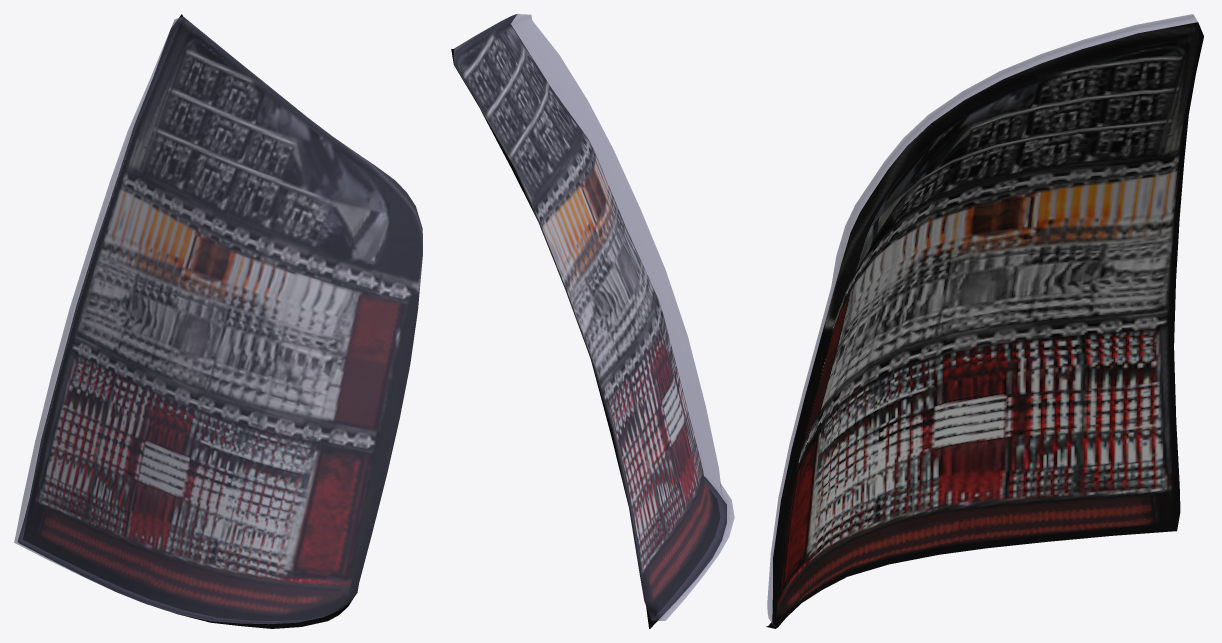
3 views of the same model, side by side, from view 1: azimuth 30°, elevation 25°; view 2: azimuth 150°, elevation 25°; view 3: azimuth 270°, elevation 25° (orthographic). The views are drawn at different scales.
Parts seen in each view (by area): view 1: Y191_13_541C_R_1_DTaSI_Y191_13_541C_R, Y191_13_541C_R_Y191_13_541C_R_4_N, Y191_13_541C_R_Y191_13_541C_R_3_D; view 2: Y191_13_541C_R_1_DTaSI_Y191_13_541C_R, Y191_13_541C_R_Y191_13_541C_R_4_N, Y191_13_541C_R_Y191_13_541C_R_3_D; view 3: Y191_13_541C_R_Y191_13_541C_R_4_N, Y191_13_541C_R_1_DTaSI_Y191_13_541C_R.
Boxes of the visible parts, <box> form: Y191_13_541C_R_1_DTaSI_Y191_13_541C_R: <box>14,17,422,624</box>; Y191_13_541C_R_Y191_13_541C_R_4_N: <box>23,17,422,620</box>; Y191_13_541C_R_Y191_13_541C_R_3_D: <box>18,14,354,628</box>; Y191_13_541C_R_1_DTaSI_Y191_13_541C_R: <box>454,14,734,620</box>; Y191_13_541C_R_Y191_13_541C_R_4_N: <box>453,14,720,620</box>; Y191_13_541C_R_Y191_13_541C_R_3_D: <box>451,49,726,628</box>; Y191_13_541C_R_Y191_13_541C_R_4_N: <box>772,22,1203,628</box>; Y191_13_541C_R_1_DTaSI_Y191_13_541C_R: <box>767,14,1197,625</box>.
Bounding box in the file's own units: 21.53 × 35.32 × 22.84.
